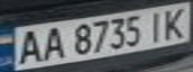3: (109, 16, 130, 51)
5: (124, 12, 148, 47)
7: (87, 18, 112, 53)
8: (69, 20, 93, 56)
A: (12, 28, 45, 65), (36, 25, 69, 61)
I: (142, 8, 172, 42)
K: (157, 5, 193, 39)
